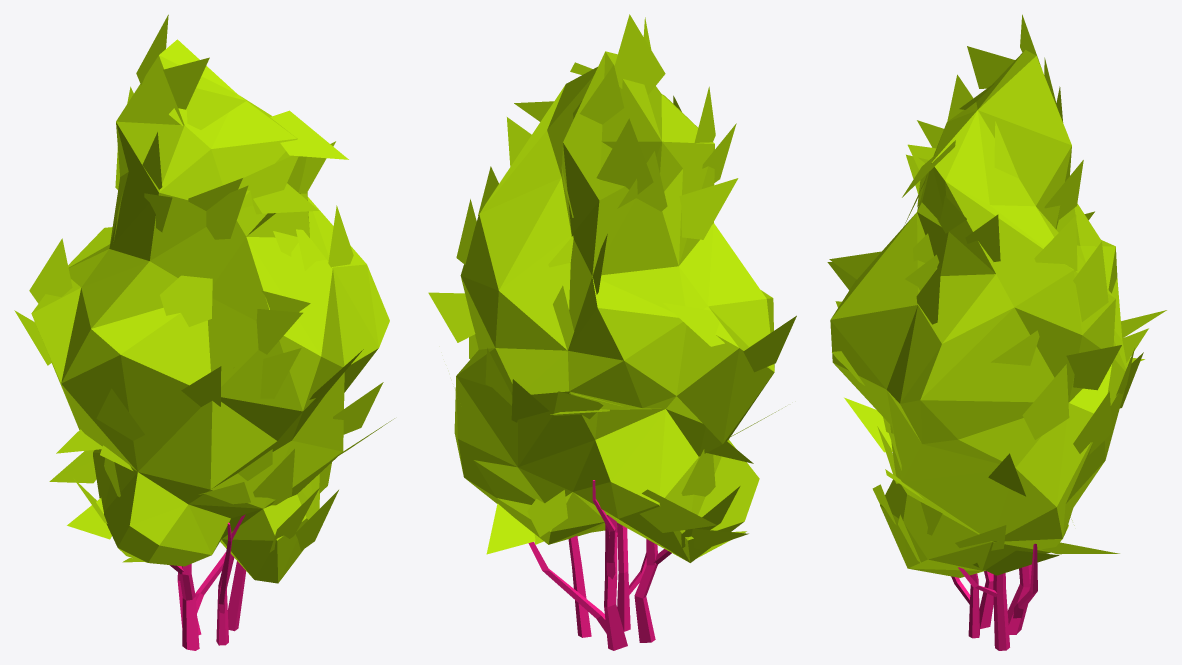
File: SM_Bush_Shrub_C.fbx
3 renders of one model, left to right at view 1: azimuth 30°, elevation 25°; view 2: azimuth 150°, elevation 25°; view 3: azimuth 270°, elevation 25°, orthographic. The views are drawn at different scales.
Visible parts, largest first — view 1: SM_Bush_Shrub_C; view 2: SM_Bush_Shrub_C; view 3: SM_Bush_Shrub_C.
Boxes of the visible parts, x1,y1,x2,y2 form: SM_Bush_Shrub_C: (14,14,394,650); SM_Bush_Shrub_C: (428,14,796,650); SM_Bush_Shrub_C: (827,14,1166,650).
Bounding box in the file's own units: 1.8 × 3.26 × 1.65.
